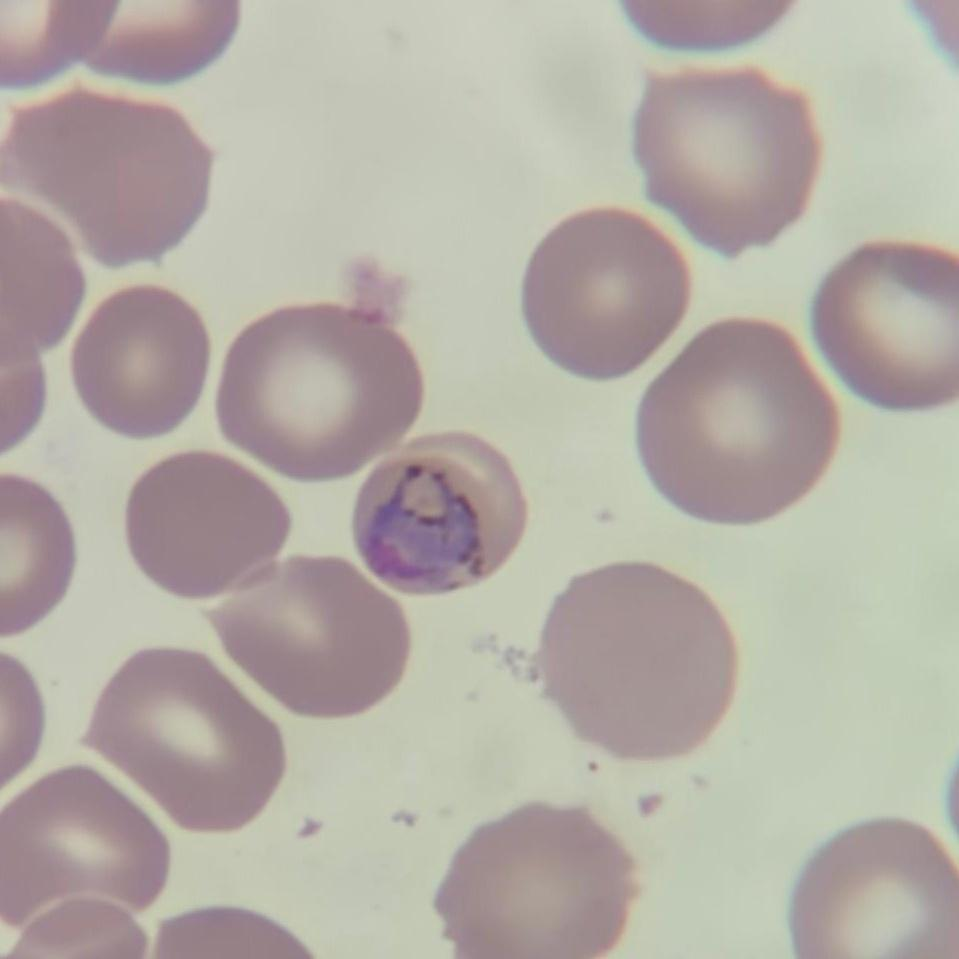Infected: (350, 438, 532, 595)
Uninfected: (640, 316, 842, 523), (85, 646, 290, 836), (542, 566, 737, 765), (12, 86, 217, 271), (635, 58, 820, 261), (215, 301, 422, 475), (205, 556, 410, 723), (440, 801, 638, 959), (520, 211, 695, 380), (3, 771, 168, 937), (805, 238, 959, 403), (70, 281, 217, 440), (790, 821, 959, 959), (130, 451, 285, 601)
